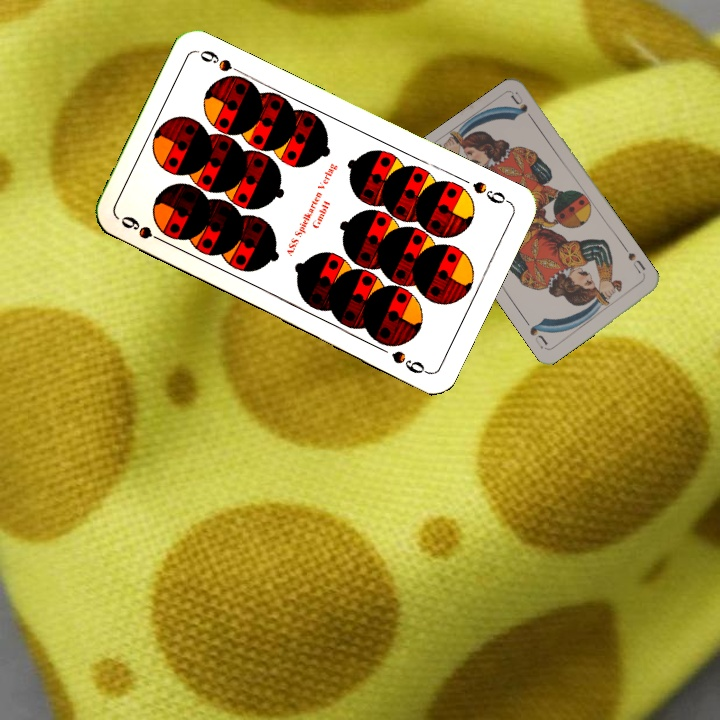S9: (117, 211, 171, 247), (468, 177, 513, 207)
SU: (624, 248, 648, 281)
